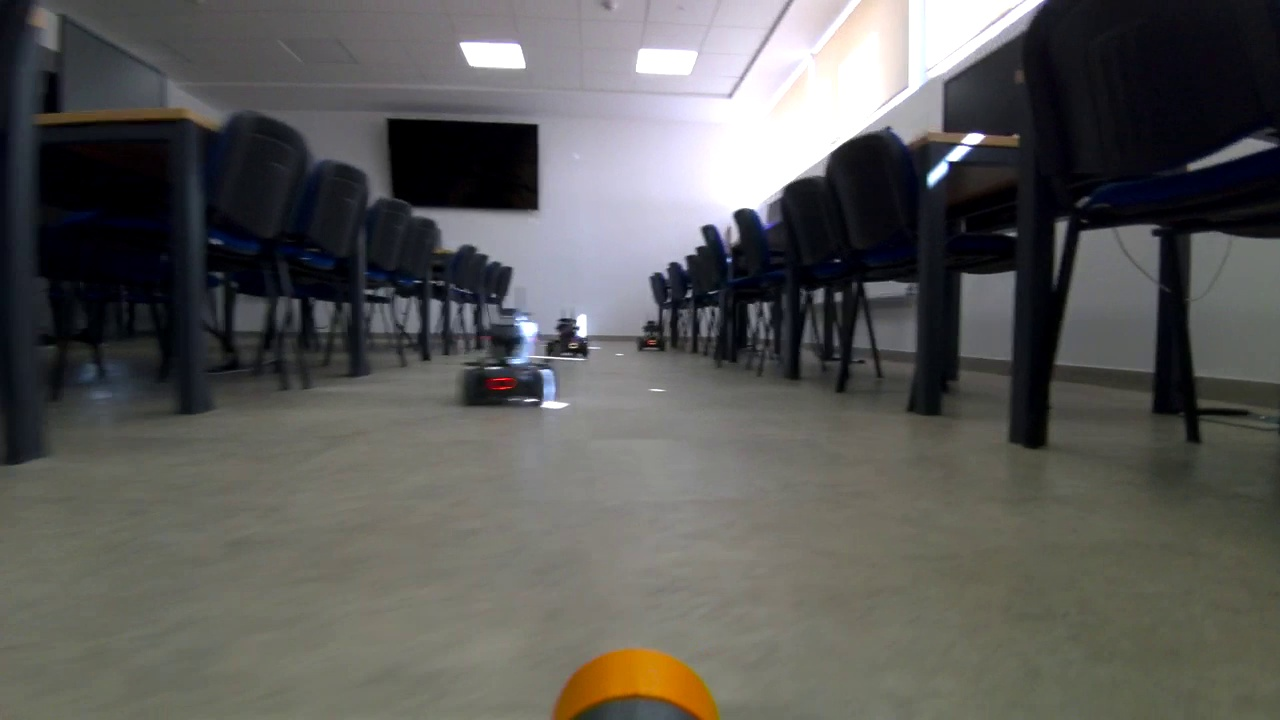robot: (460, 312, 558, 408), (544, 311, 598, 359), (638, 322, 668, 352)
